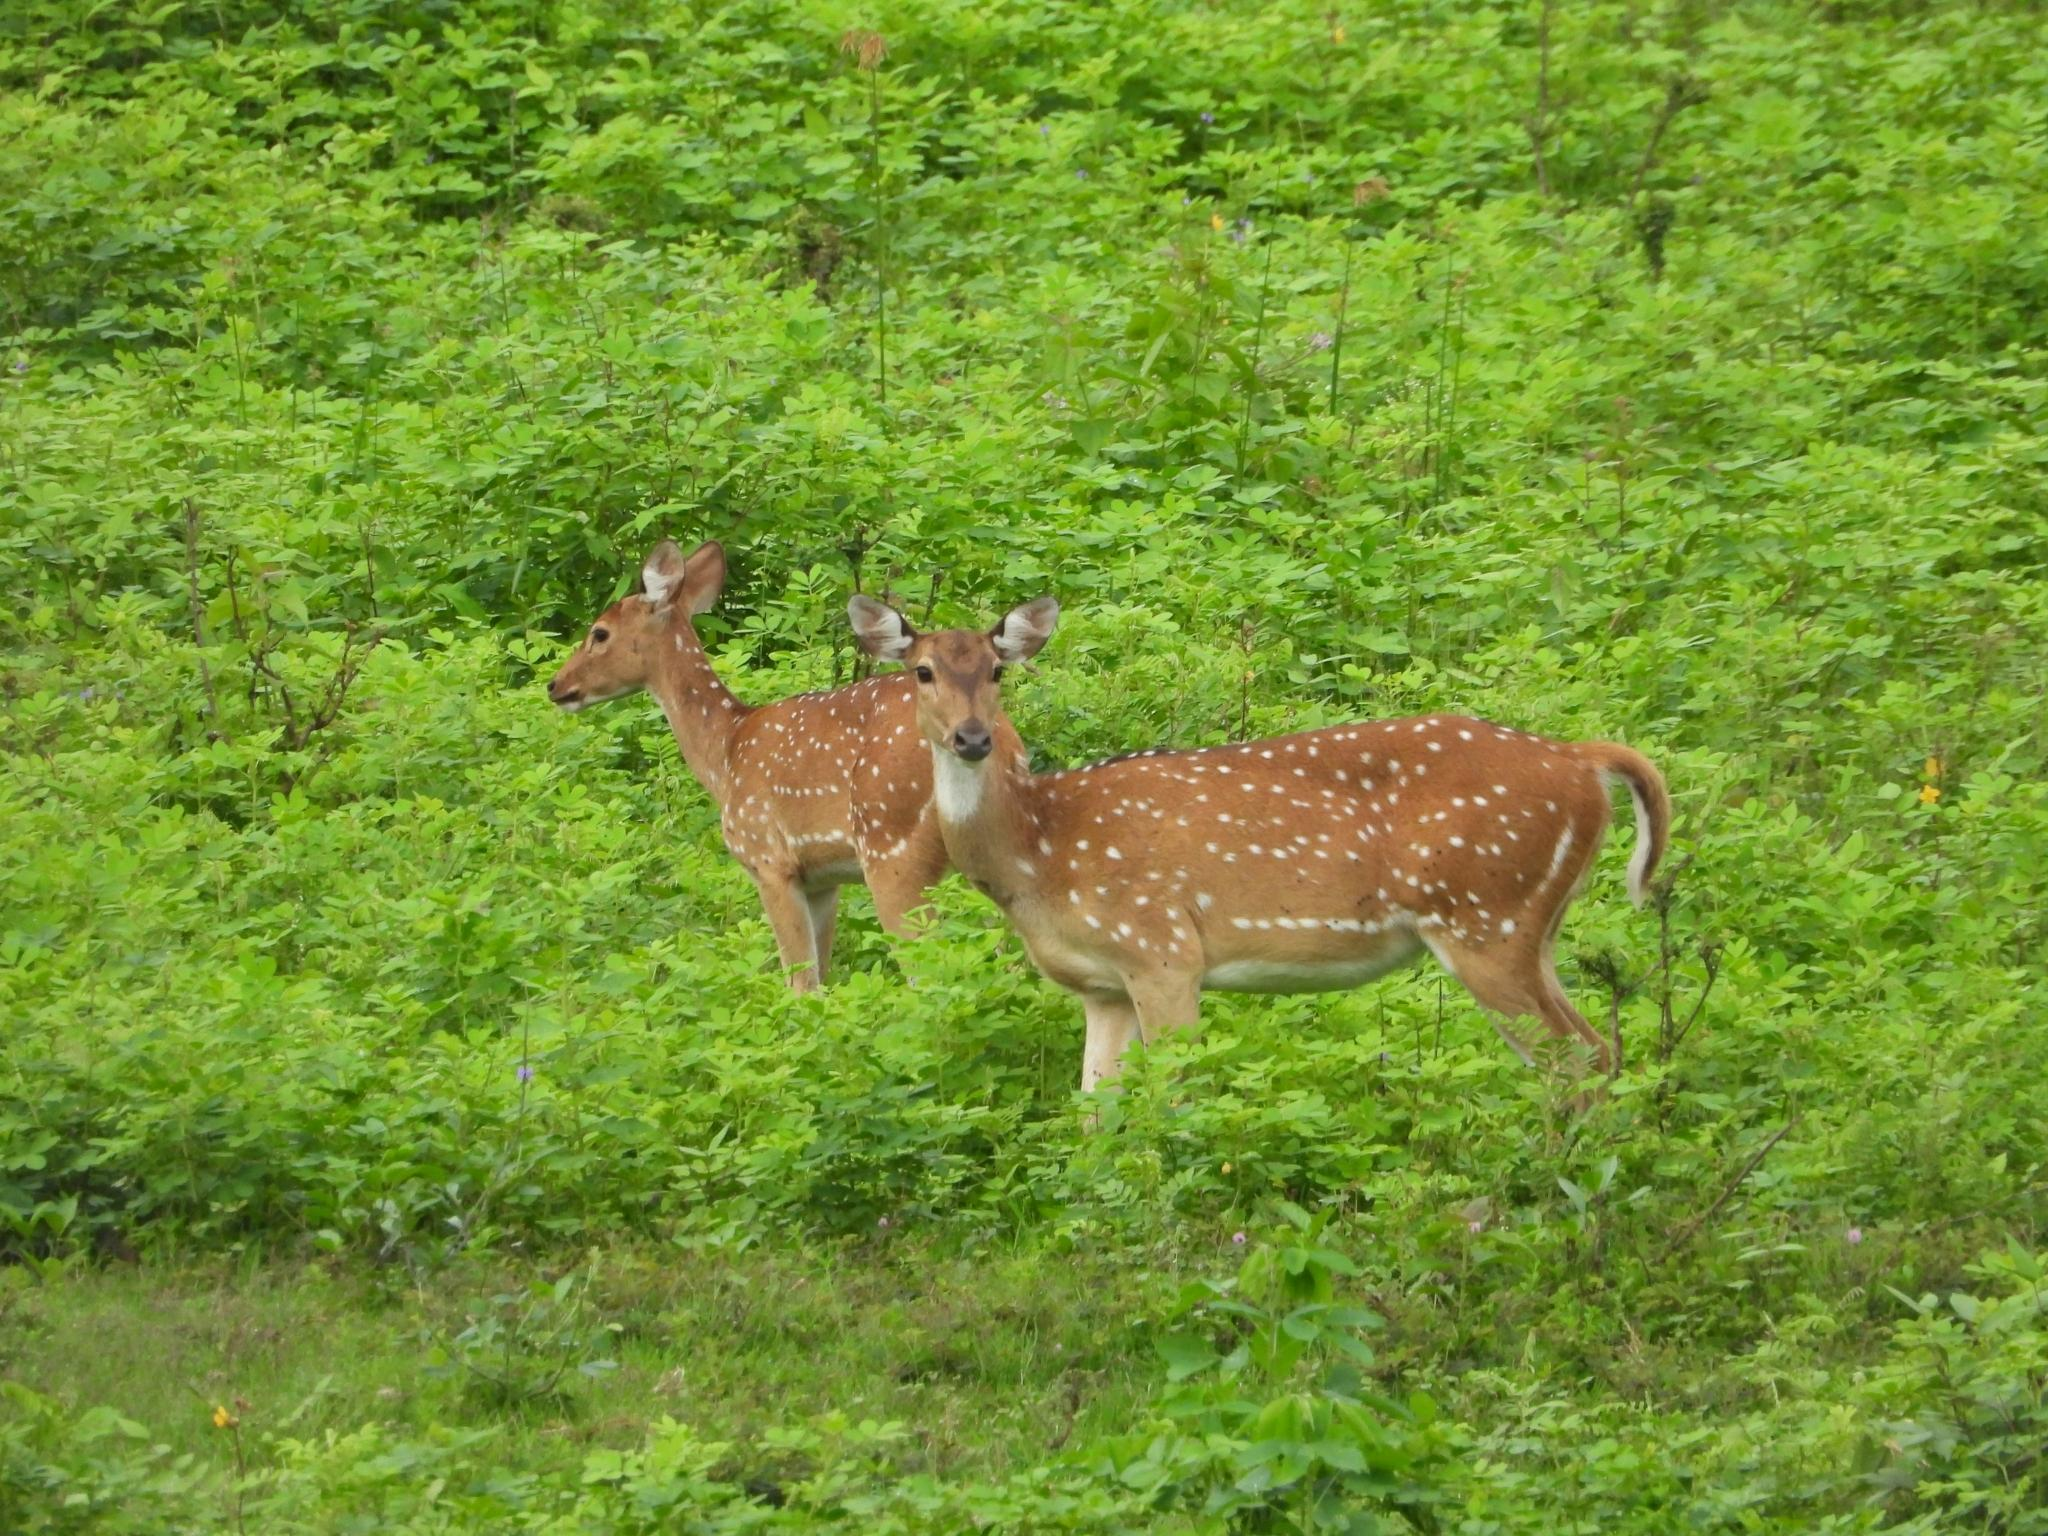Deer: (848, 594, 1671, 1089), (548, 541, 947, 991)
